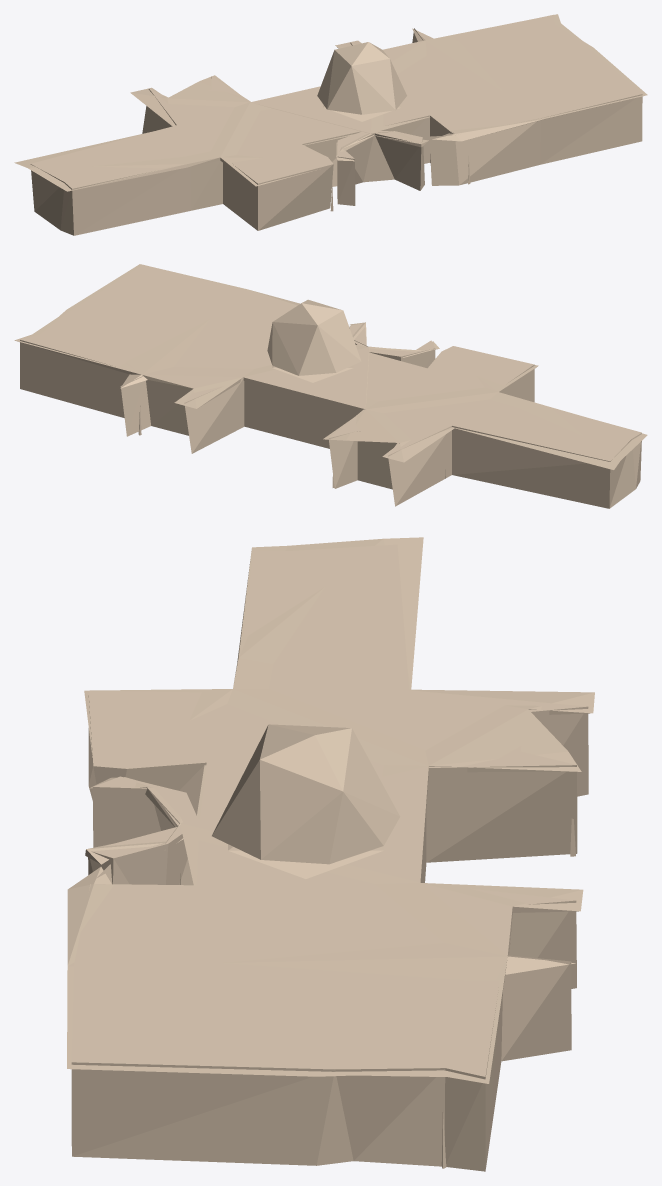
File: south-block_lod2.glb
3 views of the same model, one above another, from view 1: azimuth 30°, elevation 25°; view 2: azimuth 150°, elevation 25°; view 3: azimuth 270°, elevation 25° (orthographic). The views are drawn at different scales.
Visible parts, largest first — view 1: south-block; view 2: south-block; view 3: south-block.
Boxes of the visible parts, x1,y1,x2,y2 form: south-block: [14, 14, 647, 235]; south-block: [14, 264, 647, 508]; south-block: [67, 537, 594, 1171].
Bounding box in the file's own units: 372 × 67.79 × 152.
